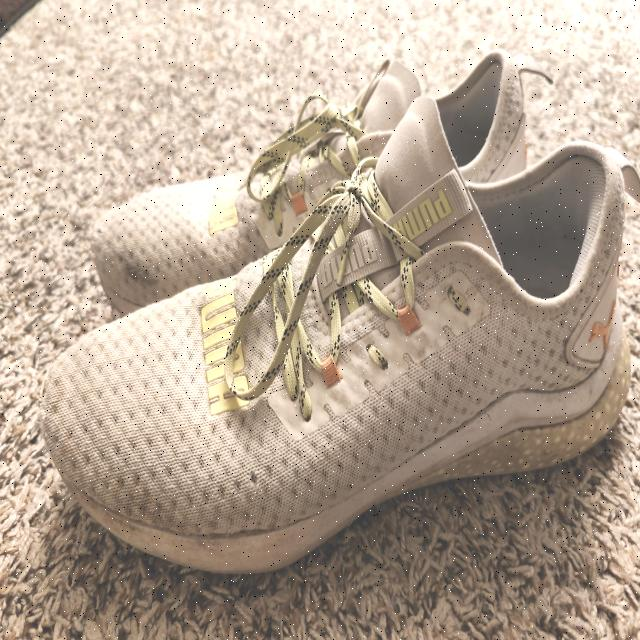white shoes: (44, 51, 630, 565)
